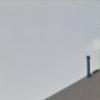chimneys: (86, 55, 90, 77)
